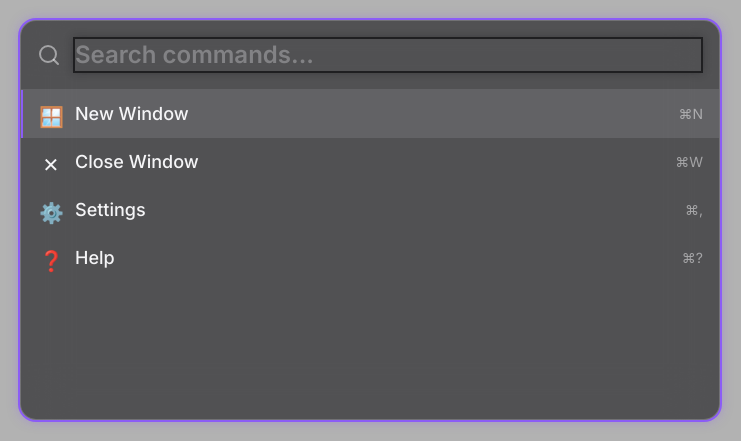
Scenario: GodMode - Gold Standard Tests › shows no results message when search has no matches
This screenshot has width=741, height=441.
Type "xyz123nonexistent" into the field with test id "god-mode-search" at (388, 55), box [73,37,703,73]
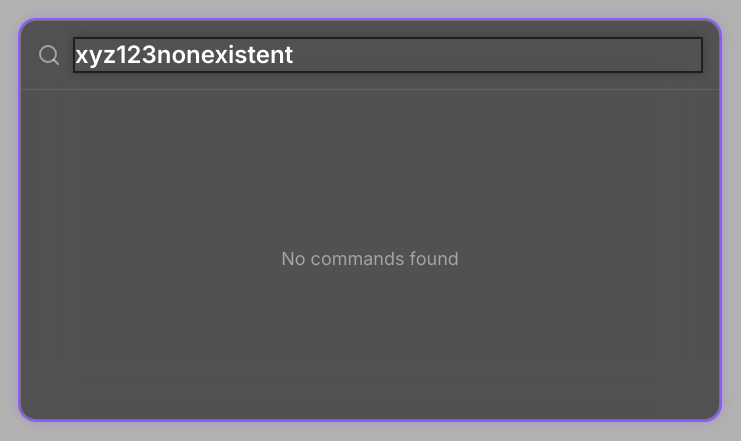
Expected: the text "No commands found" is shown, [281,244,459,272]
